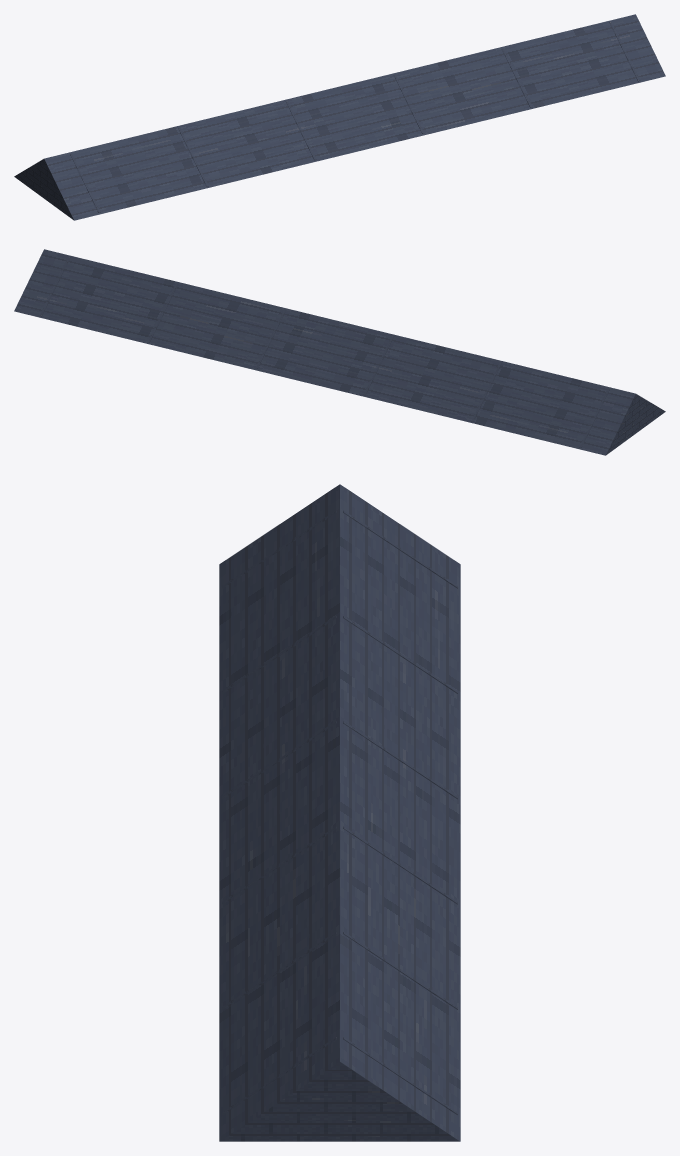
File: house_02_roof_ridge.glb
3 renders of one model, top to bottom at view 1: azimuth 30°, elevation 25°; view 2: azimuth 150°, elevation 25°; view 3: azimuth 270°, elevation 25°, orthographic. The views are drawn at different scales.
Parts seen in each view (by area): view 1: house_02_roof_ridge; view 2: house_02_roof_ridge; view 3: house_02_roof_ridge.
Boxes of the visible parts, x1,y1,x2,y2 form: house_02_roof_ridge: (14, 14, 665, 220); house_02_roof_ridge: (14, 249, 665, 455); house_02_roof_ridge: (219, 484, 460, 1141).
Size of the model in its own units: 3.4 by 0.22 by 0.6.
Materials: 1 (1 with a texture image).
